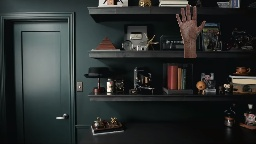Mano_aperta: (172, 3, 207, 40)
